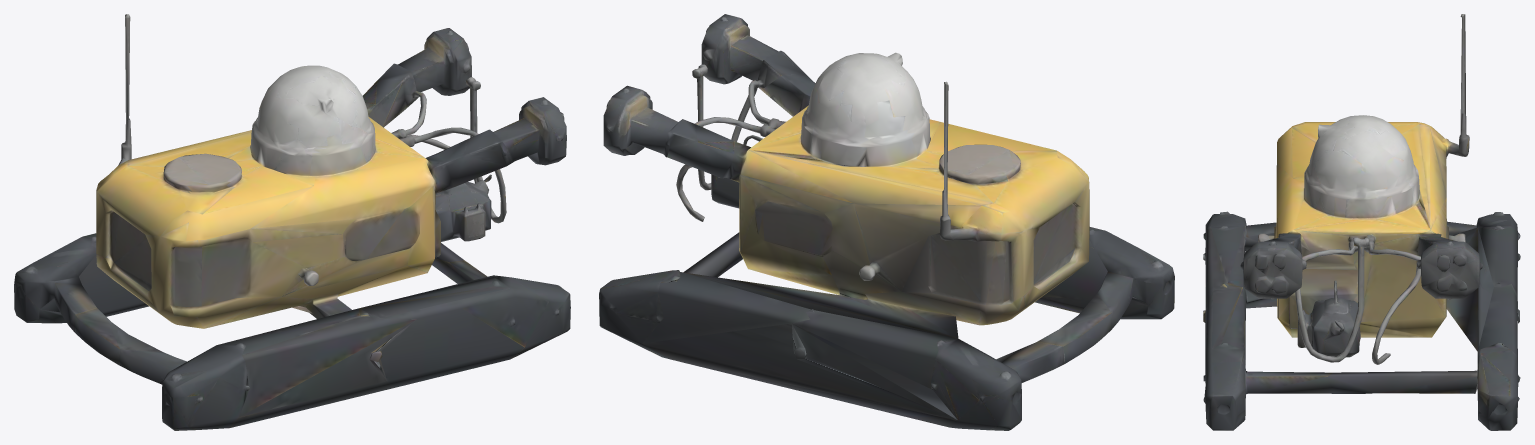
The picture shows the model from 3 angles, left to right: view 1: azimuth 30°, elevation 25°; view 2: azimuth 150°, elevation 25°; view 3: azimuth 270°, elevation 25°; orthographic projection. The views are drawn at different scales.
Bounding box in the file's own units: 1.9 × 1.36 × 1.34.
1 material, 1 textured.
